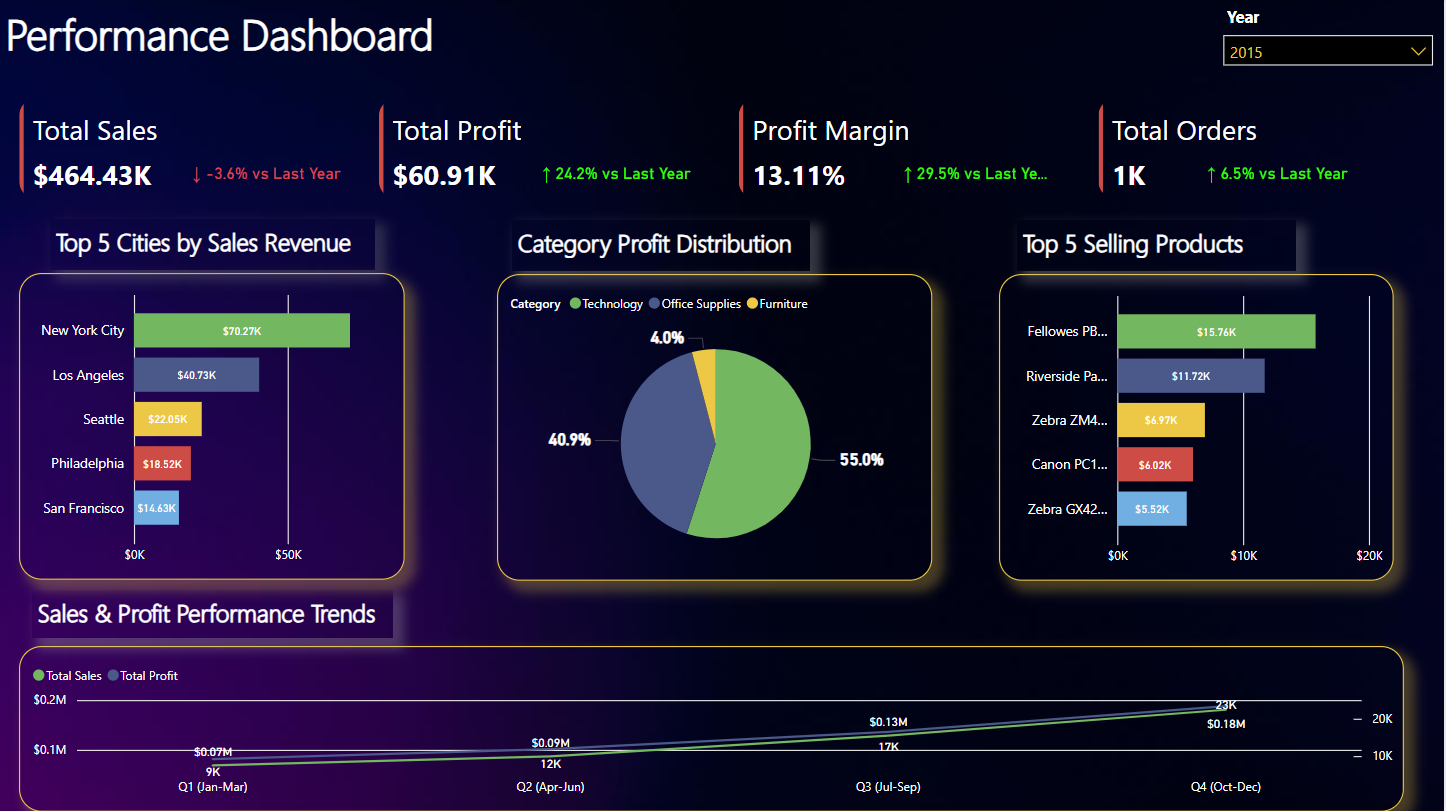

Layout of this report page (visuals, bound fields, positions):
{"tool":"powerbi","page":{"name":"Page 1","canvas":[1280,720],"ordinal":0},"visuals":[{"type":"cardVisual","fields":{"Data":["dashboard fact_sales.Total Sales","dashboard fact_sales.Total Profit","dashboard fact_sales.Profit Margin","dashboard fact_sales.Total Orders"]},"box":[0,70.5,1280,125.7],"z":0},{"type":"slicer","fields":{"Values":["Data table.Year"]},"box":[1074.3,0,205.7,60],"z":1000},{"type":"card","fields":{"Values":["dashboard fact_sales.Sales Same period LY"]},"box":[164.9,133,142.8,46.1],"z":2000},{"type":"card","fields":{"Values":["dashboard fact_sales.Profit Same period LY"]},"box":[475.3,133,142.8,46.1],"z":3000},{"type":"card","fields":{"Values":["dashboard fact_sales.Profit Margin Same period LY"]},"box":[793.6,133,142.8,46.1],"z":4000},{"type":"card","fields":{"Values":["dashboard fact_sales.Total order percentage change from LY"]},"box":[1061.4,133,142.8,46.1],"z":5000},{"type":"lineChart","fields":{"Y":["dashboard fact_sales.Total Sales"],"Y2":["dashboard fact_sales.Total Profit"],"Category":["Data table.Date Hierarchy.Qauter Name","Data table.Date Hierarchy.Month","Data table.Date Hierarchy.Date"]},"box":[16.8,573.7,1228.1,147.2],"z":6000},{"type":"textbox","box":[0,0,579.7,60.3],"z":7000},{"type":"barChart","fields":{"Category":["dashboard dim_customer.City"],"Y":["dashboard fact_sales.Total Sales"],"Series":["dashboard dim_customer.City"]},"box":[16.8,243,342.3,272.2],"z":9000},{"type":"pieChart","fields":{"Category":["dashboard dim_product.Category"],"Y":["dashboard fact_sales.Profit Percentage by Cateogry"]},"box":[441,243.8,385.7,272.4],"z":10000},{"type":"textbox","box":[44.8,195.2,287.6,44.8],"z":11000},{"type":"textbox","box":[454.3,196.2,263.8,44.8],"z":12000},{"type":"barChart","fields":{"Y":["dashboard fact_sales.Total Sales"],"Category":["dashboard dim_product.Product_Name"],"Series":["dashboard dim_product.Product_Name"]},"box":[885.7,243.8,350.5,272.4],"z":13000},{"type":"textbox","box":[901.8,196,246.5,45.2],"z":14000},{"type":"textbox","box":[28.4,524,320.1,42.6],"z":15000}]}

Visuals, with their boxes in screenshot pixels (x1, y1, x2, y2), scaled from the page's 1280x720 canvas onto the 1446x811 screenshot:
cardVisual - dashboard fact_sales.Total Sales x dashboard fact_sales.Total Profit: (x1=0, y1=79, x2=1445, y2=221)
slicer - Data table.Year: (x1=1214, y1=0, x2=1445, y2=68)
card - dashboard fact_sales.Sales Same period LY: (x1=186, y1=150, x2=348, y2=202)
card - dashboard fact_sales.Profit Same period LY: (x1=537, y1=150, x2=698, y2=202)
card - dashboard fact_sales.Profit Margin Same period LY: (x1=897, y1=150, x2=1058, y2=202)
card - dashboard fact_sales.Total order percentage change from LY: (x1=1199, y1=150, x2=1360, y2=202)
lineChart - dashboard fact_sales.Total Sales x dashboard fact_sales.Total Profit: (x1=19, y1=646, x2=1406, y2=810)
textbox: (x1=0, y1=0, x2=655, y2=68)
barChart - dashboard dim_customer.City x dashboard fact_sales.Total Sales: (x1=19, y1=274, x2=406, y2=580)
pieChart - dashboard dim_product.Category x dashboard fact_sales.Profit Percentage by Cateogry: (x1=498, y1=275, x2=934, y2=581)
textbox: (x1=51, y1=220, x2=376, y2=270)
textbox: (x1=513, y1=221, x2=811, y2=271)
barChart - dashboard fact_sales.Total Sales x dashboard dim_product.Product_Name: (x1=1001, y1=275, x2=1397, y2=581)
textbox: (x1=1019, y1=221, x2=1297, y2=272)
textbox: (x1=32, y1=590, x2=394, y2=638)
